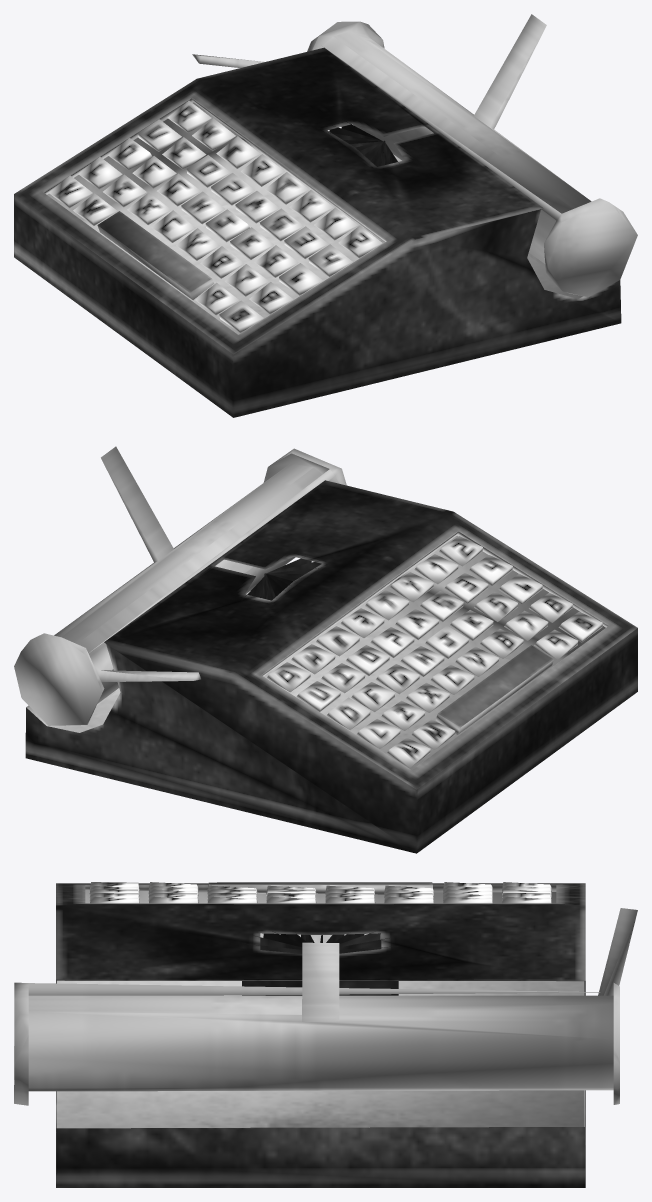
File: typewriter.fbx
3 views of the same model, one above another, from view 1: azimuth 30°, elevation 25°; view 2: azimuth 150°, elevation 25°; view 3: azimuth 270°, elevation 25° (orthographic). The views are drawn at different scales.
Parts seen in each view (by area): view 1: Typewriter_Base; view 2: Typewriter_Base; view 3: Typewriter_Base.
Part boxes in pixels (x1,y1,x2,y2): Typewriter_Base: (14,14,637,417); Typewriter_Base: (14,446,637,853); Typewriter_Base: (14,882,637,1187).
Bounding box in the file's own units: 164 × 81.62 × 177.
